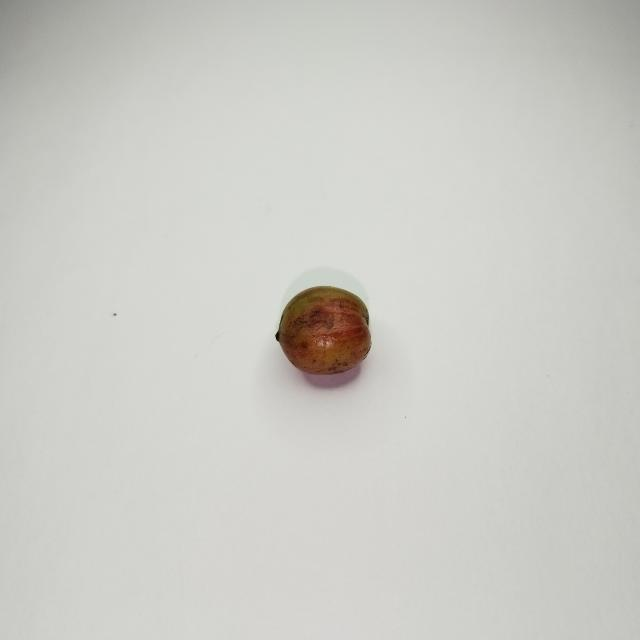Sano: (275, 286, 370, 375)
